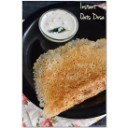dosa: (31, 42, 106, 115)
